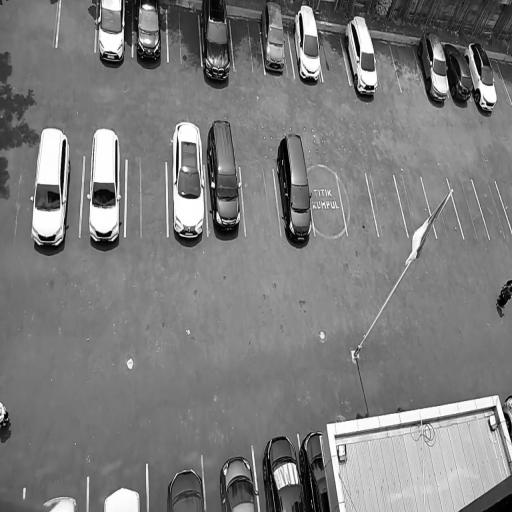Car: (166, 103, 208, 259), (203, 104, 243, 252), (29, 123, 74, 253), (86, 120, 125, 256), (272, 131, 316, 248), (341, 9, 383, 106), (461, 36, 507, 116), (413, 25, 456, 107), (262, 432, 303, 512), (197, 0, 234, 88), (291, 1, 325, 85), (301, 430, 335, 512), (134, 0, 169, 72), (97, 0, 130, 74), (217, 454, 259, 512), (441, 39, 477, 106), (257, 1, 290, 74), (163, 464, 205, 512), (100, 481, 141, 512), (40, 492, 79, 512)
Space Available: (125, 158, 168, 237), (240, 165, 281, 237), (366, 171, 409, 237), (394, 172, 437, 238), (446, 177, 490, 240), (421, 175, 464, 238), (337, 170, 379, 234), (308, 172, 347, 236), (166, 0, 201, 66), (472, 181, 511, 238), (229, 16, 264, 73), (57, 0, 97, 49), (390, 39, 426, 92), (317, 28, 349, 84), (371, 35, 401, 92), (489, 56, 512, 109), (497, 61, 512, 104)
